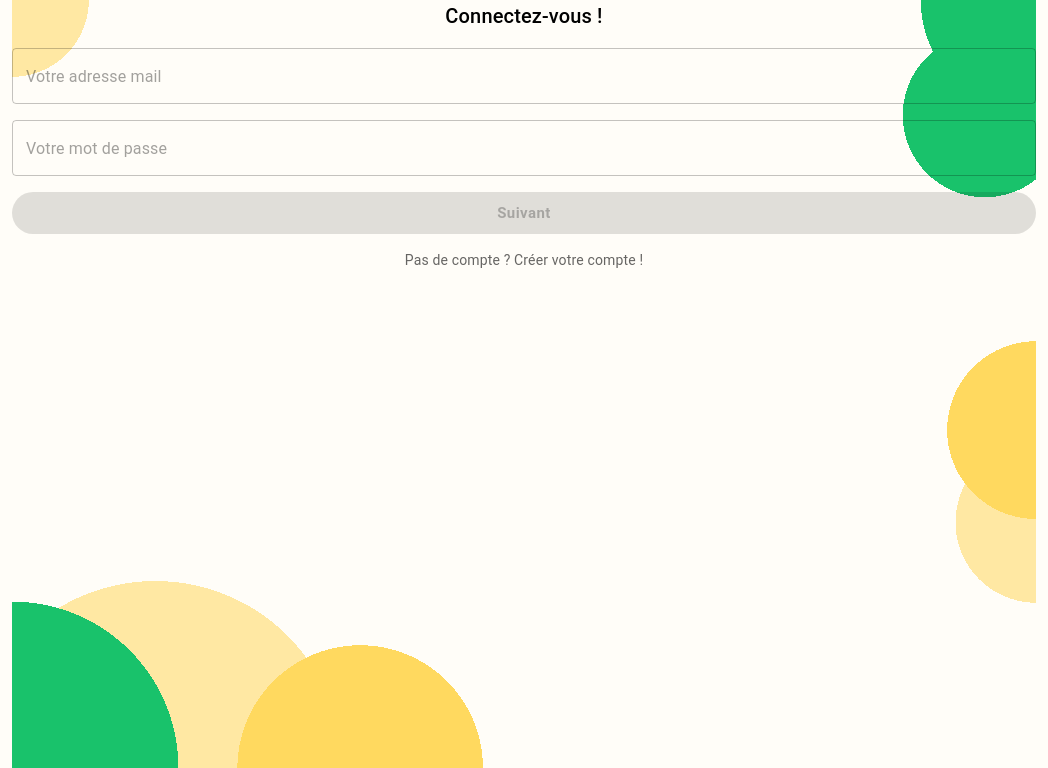
LoginForm › le bouton s'active quand email et mot de passe sont remplis
Type "test@example.com" into the field with placeholder "Votre adresse mail" at x=524, y=76, box x1=12 y1=48 x2=1036 y2=104
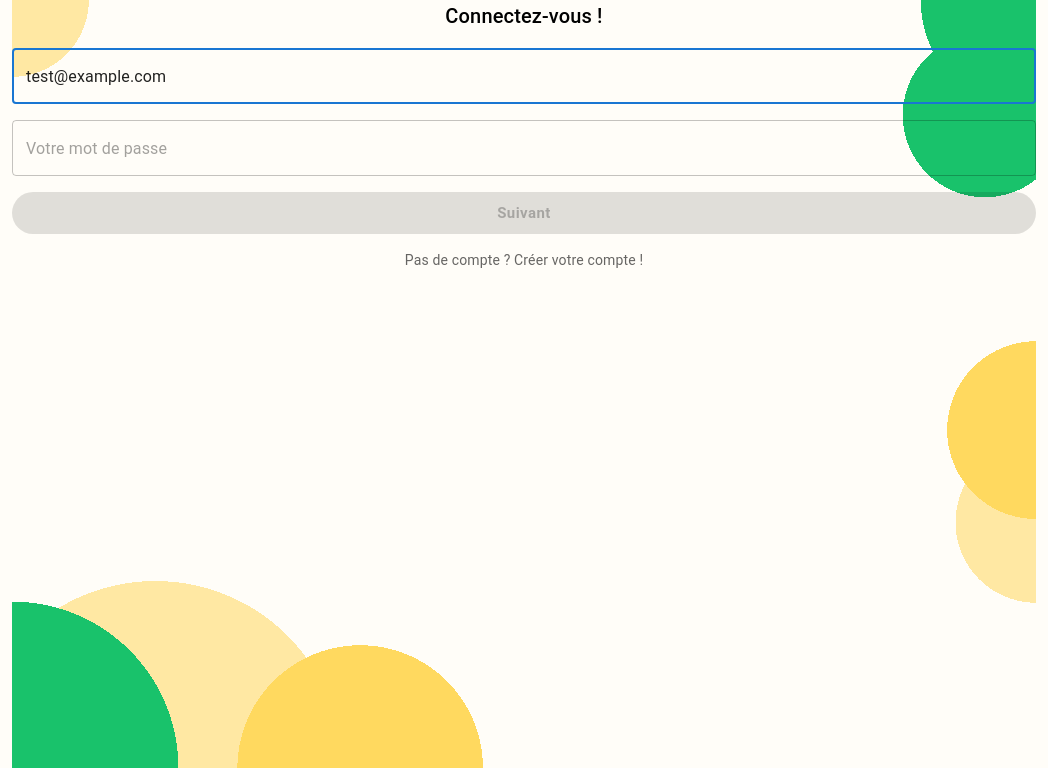
Type "motdepasse123" into the password field with placeholder "Votre mot de passe" at x=524, y=148, box x1=12 y1=120 x2=1036 y2=176
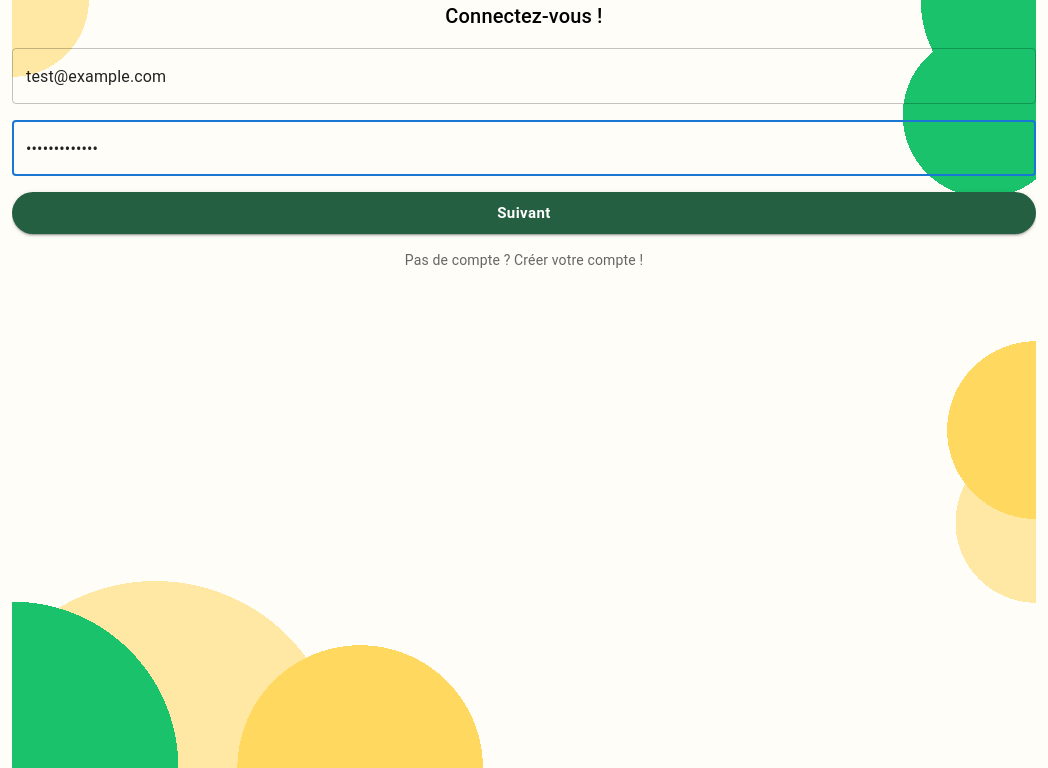
Expected: the button "Suivant" is enabled, x1=12 y1=192 x2=1036 y2=234
